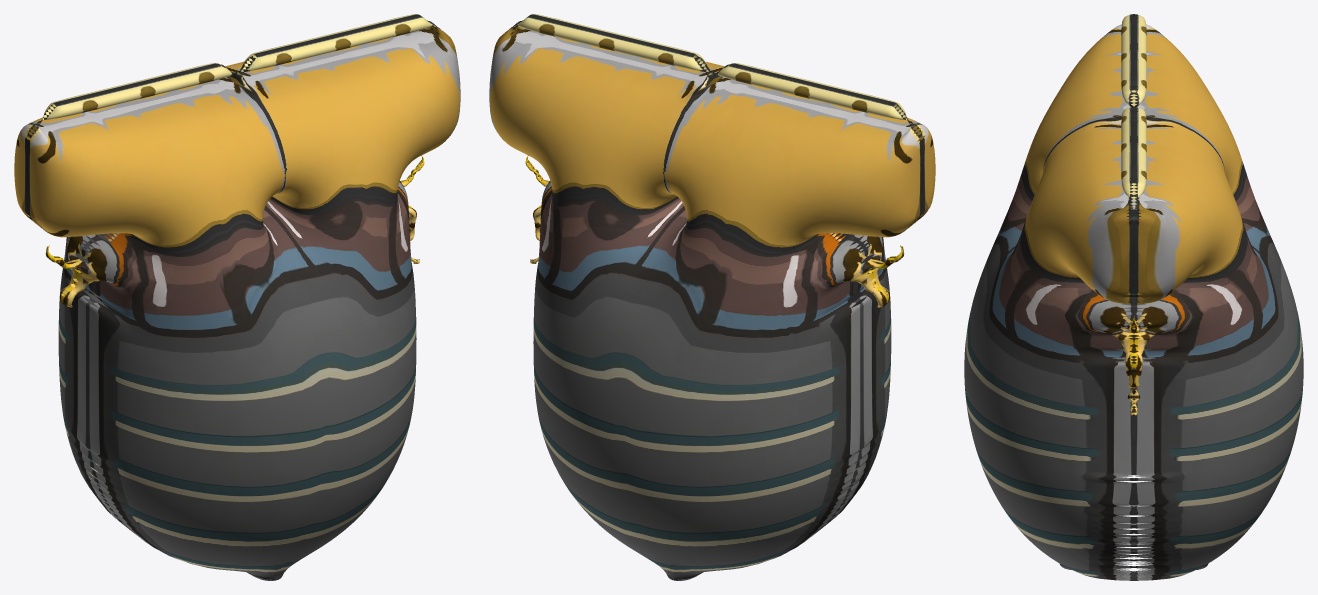
Rendered from louvered_hatch.glb.
3 views of the same model, side by side, from view 1: azimuth 30°, elevation 25°; view 2: azimuth 150°, elevation 25°; view 3: azimuth 270°, elevation 25° (orthographic). The views are drawn at different scales.
Visible parts, largest first — view 1: louvered_hatch; view 2: louvered_hatch; view 3: louvered_hatch.
Boxes of the visible parts, box(x1,y1,x2,y2) form: louvered_hatch: box(14, 14, 460, 580); louvered_hatch: box(489, 14, 935, 580); louvered_hatch: box(964, 14, 1303, 580).
Bounding box in the file's own units: 0.9876 × 1.11 × 0.7288.
Materials: 1 (1 with a texture image).
